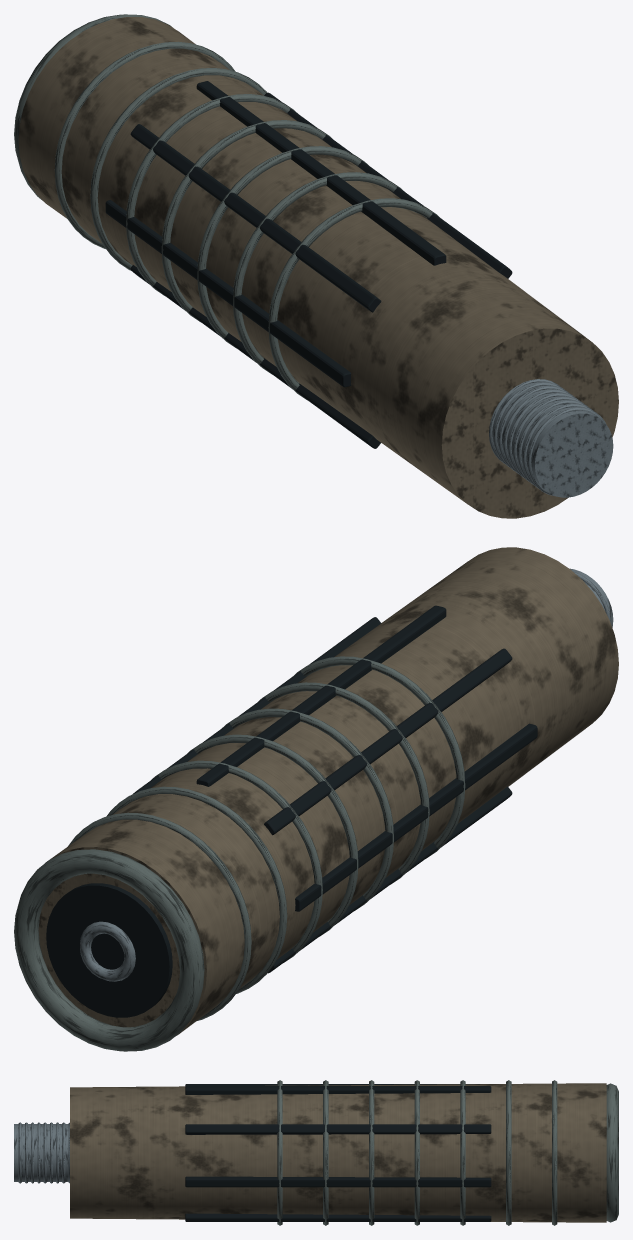
3 renders of one model, top to bottom at view 1: azimuth 30°, elevation 25°; view 2: azimuth 150°, elevation 25°; view 3: azimuth 270°, elevation 25°, orthographic. The views are drawn at different scales.
Parts seen in each view (by area): view 1: machined receiver, edge hardware, recess shadow, brushed steel; view 2: machined receiver, edge hardware, recess shadow, brushed steel; view 3: machined receiver, recess shadow, edge hardware, brushed steel.
Part boxes in pixels (<box>): machined receiver: <box>18,17,618,518</box>; edge hardware: <box>14,14,439,400</box>; recess shadow: <box>105,81,512,448</box>; brushed steel: <box>489,379,613,497</box>; machined receiver: <box>38,547,618,1036</box>; edge hardware: <box>14,656,465,1051</box>; recess shadow: <box>46,605,537,1017</box>; brushed steel: <box>80,568,613,981</box>; machined receiver: <box>70,1083,606,1222</box>; recess shadow: <box>185,1084,491,1221</box>; edge hardware: <box>277,1080,618,1225</box>; brushed steel: <box>14,1122,69,1183</box>.
Bounding box in the file's own units: 0.0702 × 0.0702 × 0.291.
Materials: 4 (3 with a texture image).
